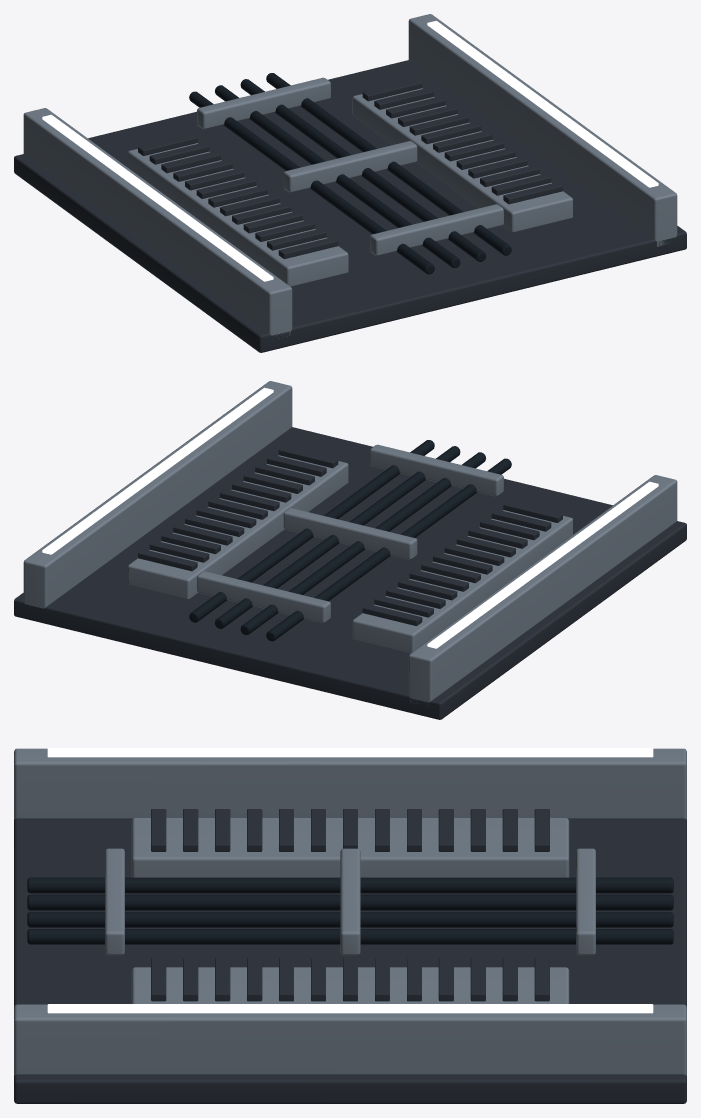
Rendered from modular_ceiling_panel.glb.
3 views of the same model, one above another, from view 1: azimuth 30°, elevation 25°; view 2: azimuth 150°, elevation 25°; view 3: azimuth 270°, elevation 25° (orthographic). The views are drawn at different scales.
Parts seen in each view (by area): view 1: Ceiling_cassette_4m, Truss_beam.001, Truss_beam, Ventilation_housing, Ventilation_housing.001, Cable_hanger.001, Cable_hanger.002, Cable_hanger, Exposed_conduit, Exposed_conduit.002, Exposed_conduit.001, Exposed_conduit.003 (+28 smaller); view 2: Ceiling_cassette_4m, Truss_beam, Truss_beam.001, Ventilation_housing, Ventilation_housing.001, Cable_hanger.001, Cable_hanger, Cable_hanger.002, Exposed_conduit, Exposed_conduit.002, Exposed_conduit.001, Exposed_conduit.003 (+28 smaller); view 3: Ceiling_cassette_4m, Truss_beam.001, Truss_beam, Ventilation_housing, Exposed_conduit.001, Exposed_conduit, Ventilation_housing.001, Exposed_conduit.002, Exposed_conduit.003, Service_strip, Service_strip.001, Cable_hanger.001 (+28 smaller).
Part boxes in pixels (bbox=[...]): Ceiling_cassette_4m: bbox=[14, 60, 686, 352]; Truss_beam.001: bbox=[408, 14, 677, 246]; Truss_beam: bbox=[23, 108, 292, 338]; Ventilation_housing: bbox=[128, 143, 348, 286]; Ventilation_housing.001: bbox=[352, 88, 572, 232]; Cable_hanger.001: bbox=[283, 141, 417, 192]; Cable_hanger.002: bbox=[197, 77, 330, 129]; Cable_hanger: bbox=[370, 204, 503, 255]; Exposed_conduit: bbox=[189, 91, 434, 274]; Exposed_conduit.002: bbox=[240, 79, 485, 261]; Exposed_conduit.001: bbox=[215, 85, 460, 267]; Exposed_conduit.003: bbox=[266, 73, 511, 255]; Ceiling_cassette_4m: bbox=[14, 427, 686, 719]; Truss_beam: bbox=[408, 475, 677, 707]; Truss_beam.001: bbox=[23, 381, 292, 608]; Ventilation_housing: bbox=[352, 510, 572, 653]; Ventilation_housing.001: bbox=[128, 455, 348, 599]; Cable_hanger.001: bbox=[283, 508, 417, 559]; Cable_hanger: bbox=[370, 444, 503, 496]; Cable_hanger.002: bbox=[197, 571, 330, 622]; Exposed_conduit: bbox=[266, 458, 511, 641]; Exposed_conduit.002: bbox=[215, 446, 460, 628]; Exposed_conduit.001: bbox=[240, 452, 485, 634]; Exposed_conduit.003: bbox=[189, 440, 434, 622]; Ceiling_cassette_4m: bbox=[14, 818, 686, 1103]; Truss_beam.001: bbox=[14, 1004, 686, 1075]; Truss_beam: bbox=[14, 748, 686, 819]; Ventilation_housing: bbox=[131, 818, 569, 877]; Exposed_conduit.001: bbox=[27, 894, 673, 910]; Exposed_conduit: bbox=[27, 877, 673, 893]; Ventilation_housing.001: bbox=[131, 967, 569, 1003]; Exposed_conduit.002: bbox=[27, 912, 673, 927]; Exposed_conduit.003: bbox=[27, 929, 673, 944]; Service_strip: bbox=[47, 748, 653, 757]; Service_strip.001: bbox=[47, 1004, 653, 1013]; Cable_hanger.001: bbox=[340, 848, 360, 955].
Size of the model in its own units: 4 by 0.5525 by 4.
